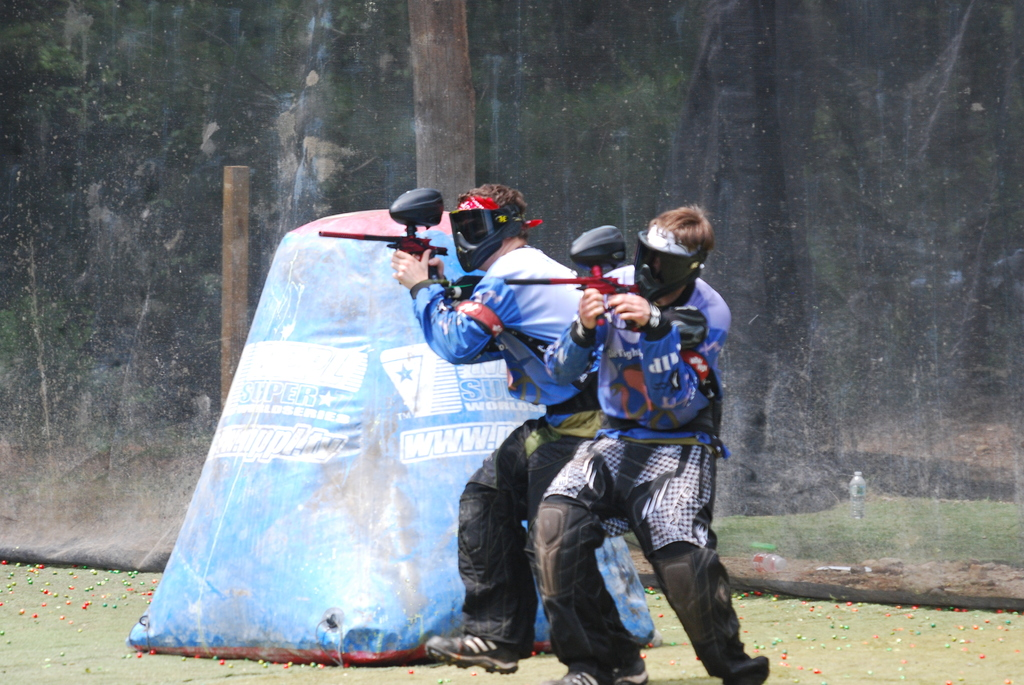Person: (390, 183, 648, 674), (531, 201, 770, 685)
